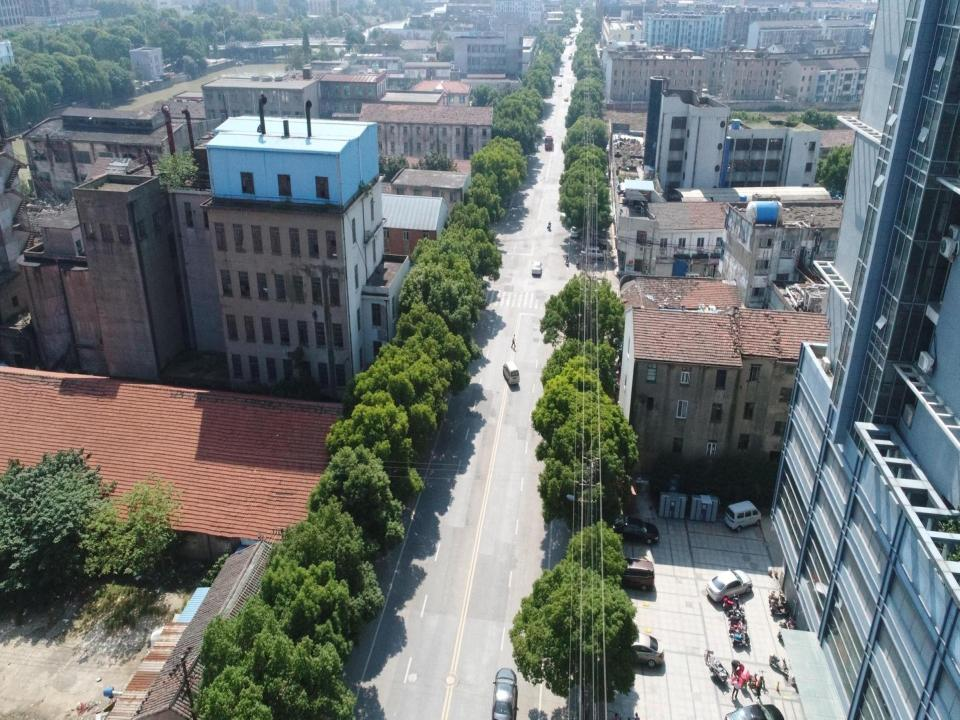bus: (544, 133, 553, 152)
car: (614, 631, 664, 667), (708, 567, 753, 602), (491, 664, 518, 718), (611, 514, 660, 543), (722, 701, 778, 719), (564, 95, 568, 101), (558, 81, 562, 87)
van: (609, 556, 654, 591), (725, 502, 762, 532), (502, 359, 521, 387), (532, 258, 542, 276)
